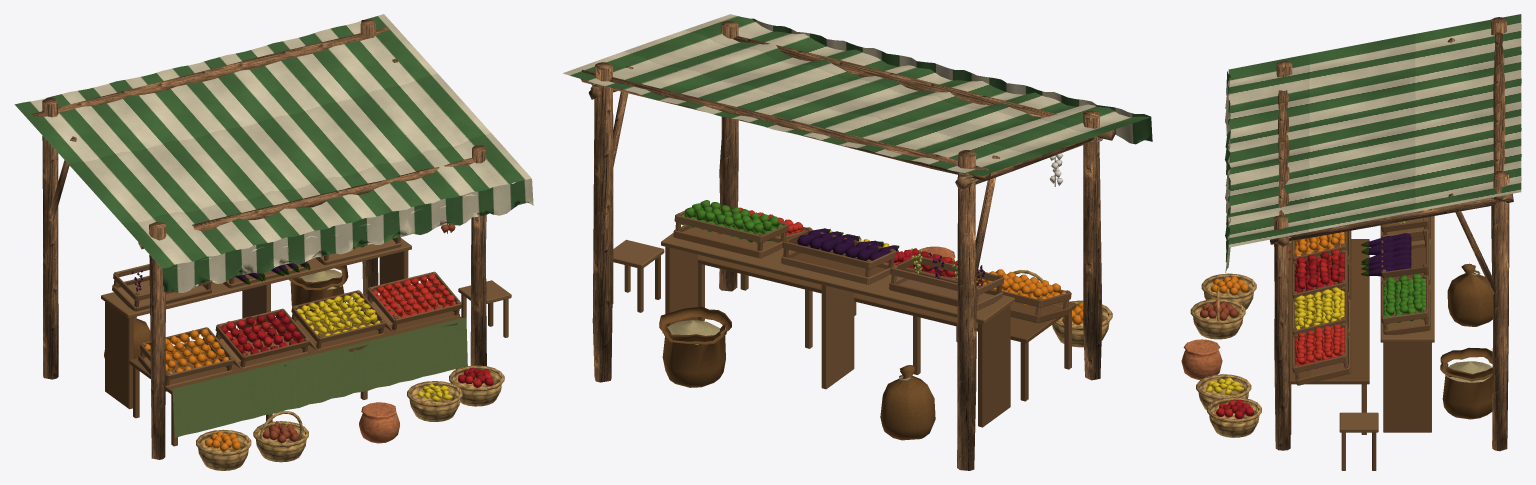
File: village-kiosk-4-lite.glb
3 renders of one model, left to right at view 1: azimuth 30°, elevation 25°; view 2: azimuth 150°, elevation 25°; view 3: azimuth 270°, elevation 25°, orthographic. The views are drawn at different scales.
Parts seen in each view (by area): view 1: K4_Cloth, K4_Wood, K4_Props; view 2: K4_Wood, K4_Cloth, K4_Props; view 3: K4_Cloth, K4_Wood, K4_Props.
Boxes of the visible parts, x1=… form: K4_Cloth: x1=14, y1=14, x2=533, y2=292; K4_Wood: x1=31, y1=19, x2=511, y2=459; K4_Props: x1=104, y1=224, x2=504, y2=470; K4_Wood: x1=580, y1=20, x2=1115, y2=470; K4_Cloth: x1=563, y1=14, x2=1152, y2=176; K4_Props: x1=590, y1=82, x2=1112, y2=440; K4_Cloth: x1=1225, y1=14, x2=1521, y2=272; K4_Wood: x1=1270, y1=17, x2=1513, y2=470; K4_Props: x1=1181, y1=197, x2=1507, y2=437.
Bounding box in the file's own units: 4.28 × 2.78 × 3.14.
3 materials, 3 textured.
